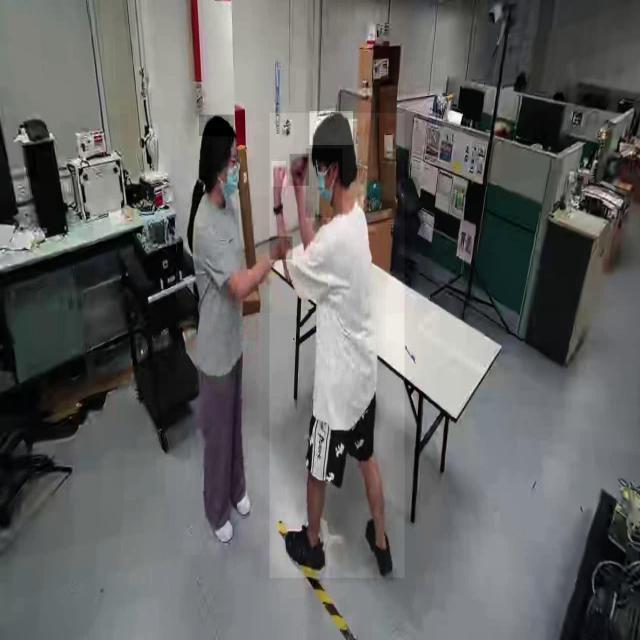face_mask: (306, 148, 342, 218), (212, 138, 245, 208)
hand_noglove: (290, 154, 310, 186), (269, 237, 293, 260), (272, 161, 286, 187)
head_nohelmet: (310, 111, 354, 146), (199, 115, 235, 137)
person: (269, 113, 405, 579), (175, 122, 262, 550)
shoes: (278, 518, 328, 574), (359, 512, 396, 580), (230, 471, 256, 526), (204, 496, 233, 544)
